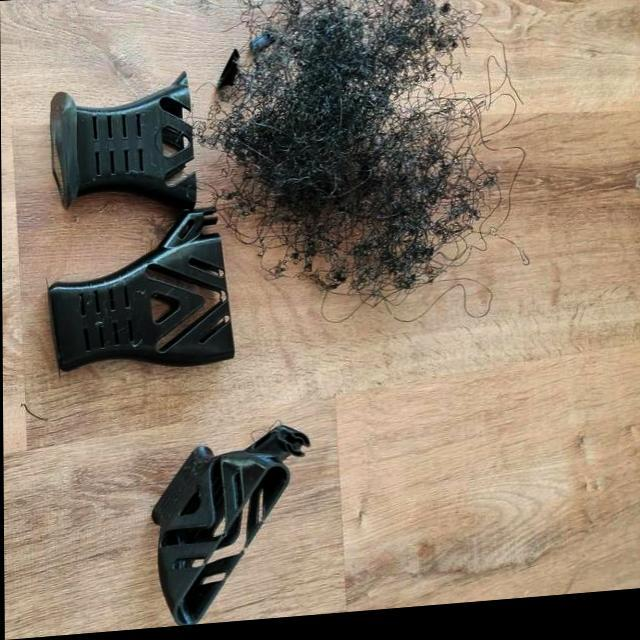spaghetti: (243, 4, 417, 233), (305, 219, 430, 315), (410, 119, 493, 258), (413, 1, 466, 77)
